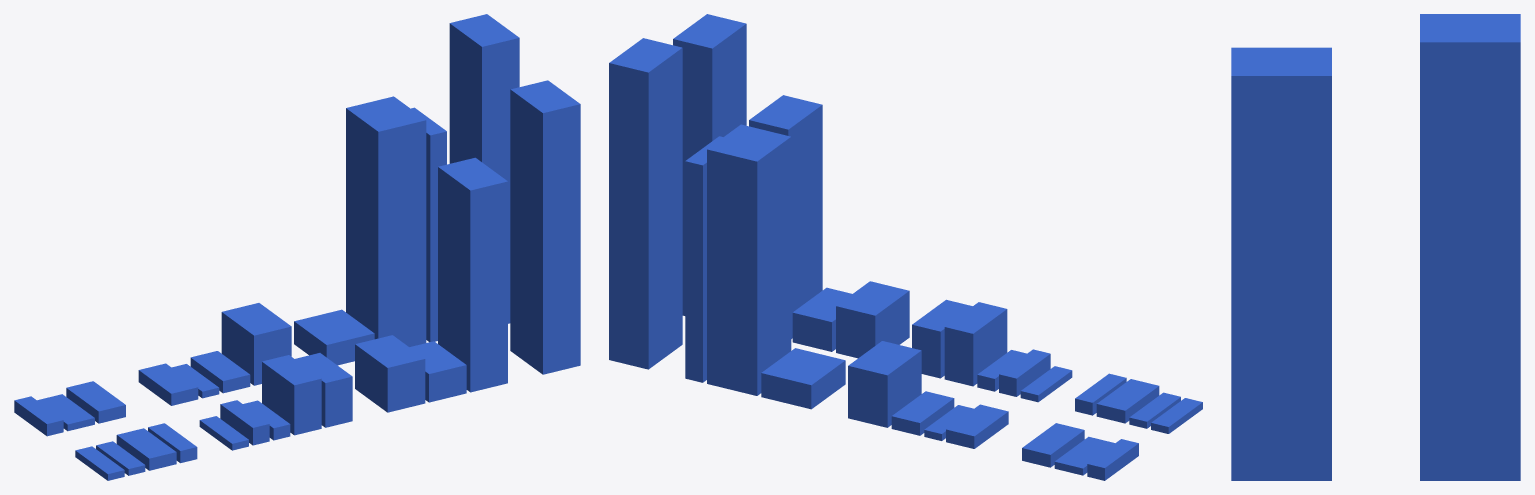
The model's file is 04_Comercial.glb.
3 views of the same model, side by side, from view 1: azimuth 30°, elevation 25°; view 2: azimuth 150°, elevation 25°; view 3: azimuth 270°, elevation 25° (orthographic). The views are drawn at different scales.
Visible parts, largest first — view 1: C_Alta_005, C_Alta_001, C_Alta_004, C_Alta_003, C_Media_005, C_Media_001, C_Media_003, C_Alta_002, C_Media_002, C_Media_004, C_Media_006, C_Baja_004 (+12 smaller); view 2: C_Alta_003, C_Alta_001, C_Alta_005, C_Alta_004, C_Alta_002, C_Media_001, C_Media_005, C_Media_003, C_Media_002, C_Media_006, C_Media_004, C_Baja_004 (+12 smaller); view 3: C_Alta_003, C_Alta_005.
Part boxes in pixels (<box>): C_Alta_005: <box>510,80,580,374</box>; C_Alta_001: <box>346,96,426,346</box>; C_Alta_004: <box>438,157,507,392</box>; C_Alta_003: <box>449,14,519,323</box>; C_Media_005: <box>355,335,425,412</box>; C_Media_001: <box>221,303,291,385</box>; C_Media_003: <box>262,355,321,435</box>; C_Alta_002: <box>411,107,446,342</box>; C_Media_002: <box>294,309,374,365</box>; C_Media_004: <box>295,353,352,427</box>; C_Media_006: <box>409,341,466,402</box>; C_Baja_004: <box>138,363,198,405</box>; C_Alta_003: <box>609,38,682,369</box>; C_Alta_001: <box>707,124,791,395</box>; C_Alta_005: <box>673,14,746,315</box>; C_Alta_004: <box>749,95,822,338</box>; C_Alta_002: <box>685,136,723,382</box>; C_Media_001: <box>848,341,921,427</box>; C_Media_005: <box>836,281,909,358</box>; C_Media_003: <box>944,302,1007,386</box>; C_Media_002: <box>761,348,845,409</box>; C_Media_006: <box>792,287,851,351</box>; C_Media_004: <box>912,299,972,378</box>; C_Baja_004: <box>946,404,1008,448</box>; C_Alta_003: <box>1420,14,1520,480</box>; C_Alta_005: <box>1231,47,1331,480</box>.
Bounding box in the file's own units: 365 × 209 × 125.
